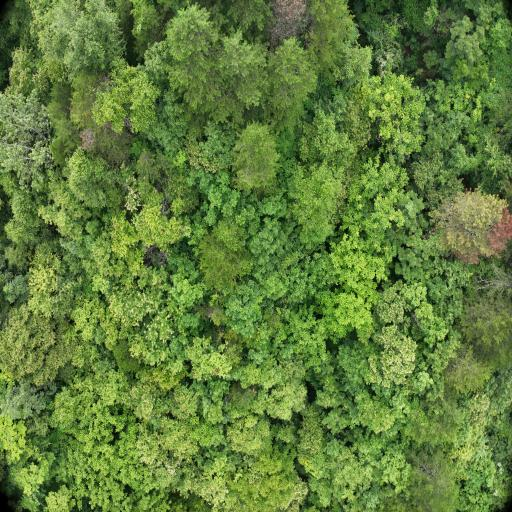dead-tree: (276, 3, 301, 36), (81, 130, 93, 148)
